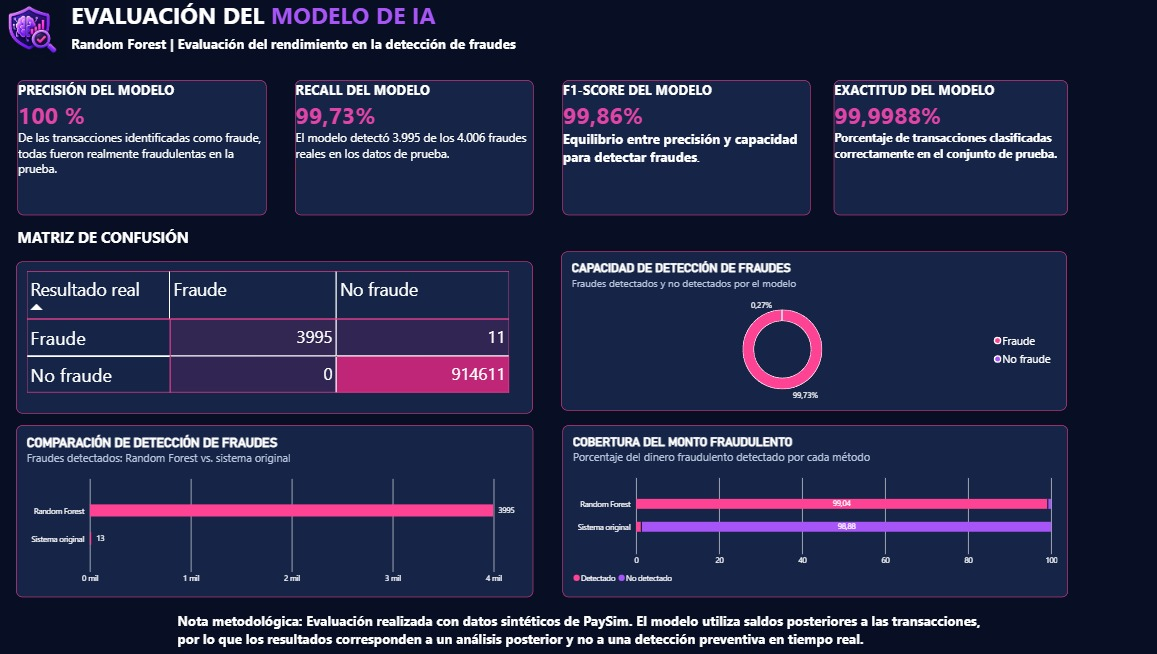

This screenshot's page, from the dashboard's own definition file:
{"tool":"powerbi","page":{"name":"03 - Evaluación del Modelo IA","canvas":[1920,1080],"ordinal":2},"visuals":[{"type":"textbox","box":[121.7,0,838.3,135],"z":0},{"type":"textbox","box":[121.7,56.7,838.3,51.7],"z":1000},{"type":"image","box":[0,0,121.7,98.3],"z":2000},{"type":"textbox","box":[35.7,130,398.6,215.7],"z":3000},{"type":"textbox","box":[480,130,381.4,215.7],"z":4000},{"type":"textbox","box":[907.1,130,397.1,215.7],"z":4001},{"type":"textbox","box":[1341.4,130,374.3,215.7],"z":4002},{"type":"textbox","box":[35.6,364.4,400,56.7],"z":4003},{"type":"pivotTable","fields":{"Columns":["matriz-confusion.Predicción"],"Rows":["matriz-confusion.Resultado real"],"Values":["Sum(matriz-confusion.Cantidad)"]},"box":[34.1,420.5,826.7,243.3],"z":4004},{"type":"donutChart","title":"CAPACIDAD DE DETECCIÓN DE FRAUDES","fields":{"Category":["matriz-confusion.Predicción"],"Y":["Sum(matriz-confusion.Cantidad)"]},"box":[906.8,404.5,809.1,254.5],"z":4005},{"type":"clusteredBarChart","title":"COMPARACIÓN DE DETECCIÓN DE FRAUDES","fields":{"Category":["comparacion_modelos.Modelo"],"Y":["Sum(comparacion_modelos.Freudes detectados)"]},"box":[34.1,681.8,827.3,275],"z":4006},{"type":"barChart","title":"COBERTURA DEL MONTO FRAUDULENTO","fields":{"Category":["comparacion_montos.Modelo"],"Y":["Sum(comparacion_montos.Monto detectado (%))","Sum(comparacion_montos.Monto no detectado (%))"]},"box":[907,682,809,275],"z":4007},{"type":"textbox","box":[291.4,980.8,1303,76],"z":4008}]}

Visuals, with their boxes in screenshot pixels (x1, y1, x2, y2), scaled from the page's 1920x1080 canvas onto the 1157x654 screenshot:
textbox: pyautogui.locateOnScreen(73, 0, 578, 82)
textbox: pyautogui.locateOnScreen(73, 34, 578, 66)
image: pyautogui.locateOnScreen(0, 0, 73, 60)
textbox: pyautogui.locateOnScreen(22, 79, 262, 209)
textbox: pyautogui.locateOnScreen(289, 79, 519, 209)
textbox: pyautogui.locateOnScreen(547, 79, 786, 209)
textbox: pyautogui.locateOnScreen(808, 79, 1034, 209)
textbox: pyautogui.locateOnScreen(21, 221, 262, 255)
pivotTable - matriz-confusion.Predicción x matriz-confusion.Resultado real: pyautogui.locateOnScreen(21, 255, 519, 402)
"CAPACIDAD DE DETECCIÓN DE FRAUDES" donutChart: pyautogui.locateOnScreen(546, 245, 1034, 399)
"COMPARACIÓN DE DETECCIÓN DE FRAUDES" clusteredBarChart: pyautogui.locateOnScreen(21, 413, 519, 579)
"COBERTURA DEL MONTO FRAUDULENTO" barChart: pyautogui.locateOnScreen(547, 413, 1034, 580)
textbox: pyautogui.locateOnScreen(176, 594, 961, 640)
